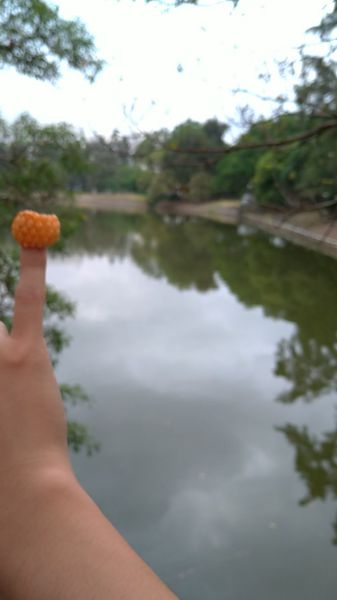eggs: (12, 209, 62, 248)
